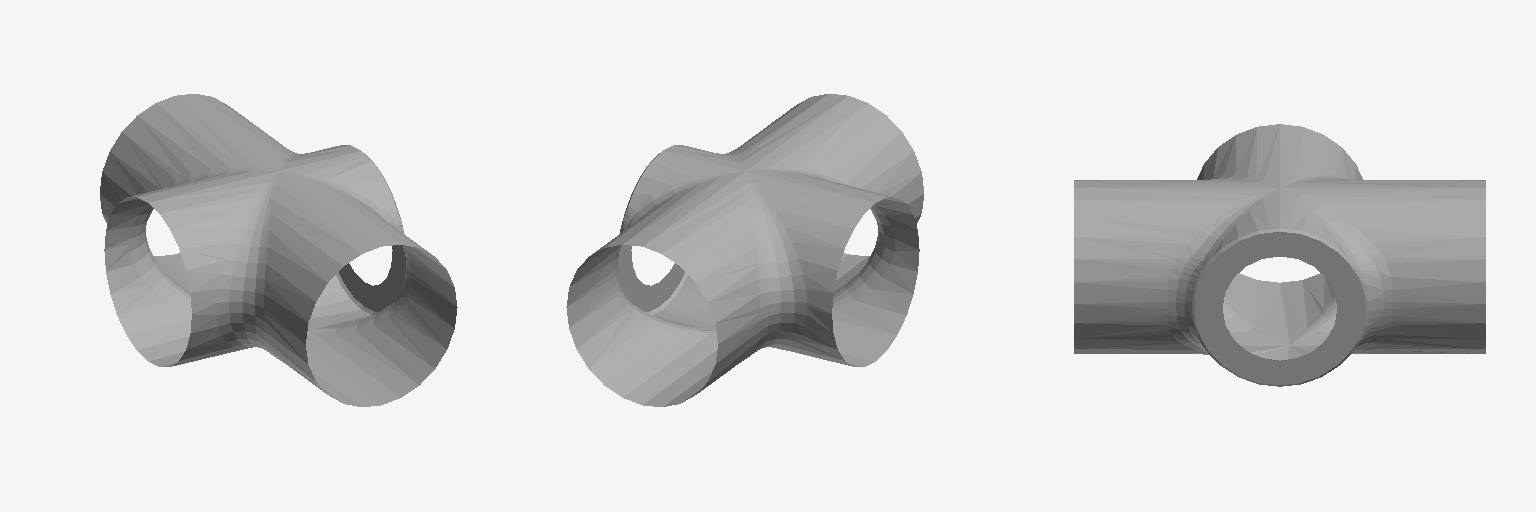
Rendered from toe-pitch.obj.
3 renders of one model, left to right at view 1: azimuth 30°, elevation 25°; view 2: azimuth 150°, elevation 25°; view 3: azimuth 270°, elevation 25°, orthographic.
Parts seen in each view (by area): view 1: __TMPOBJ_____TMPMESH__.043; view 2: __TMPOBJ_____TMPMESH__.043; view 3: __TMPOBJ_____TMPMESH__.043.
Boxes of the visible parts, x1=… form: __TMPOBJ_____TMPMESH__.043: x1=100, y1=94, x2=457, y2=406; __TMPOBJ_____TMPMESH__.043: x1=566, y1=94, x2=923, y2=406; __TMPOBJ_____TMPMESH__.043: x1=1074, y1=124, x2=1485, y2=386.
Size of the model in its own units: 0.0227 by 0.016 by 0.0377.